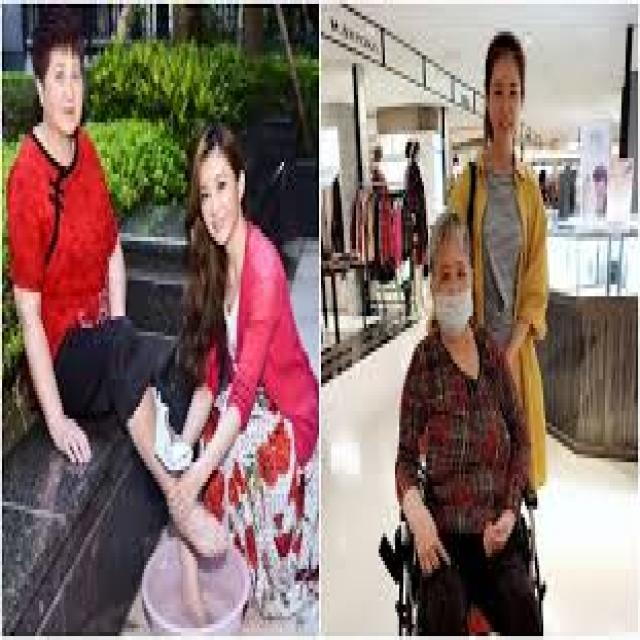wheelchairs: (377, 403, 558, 636)
